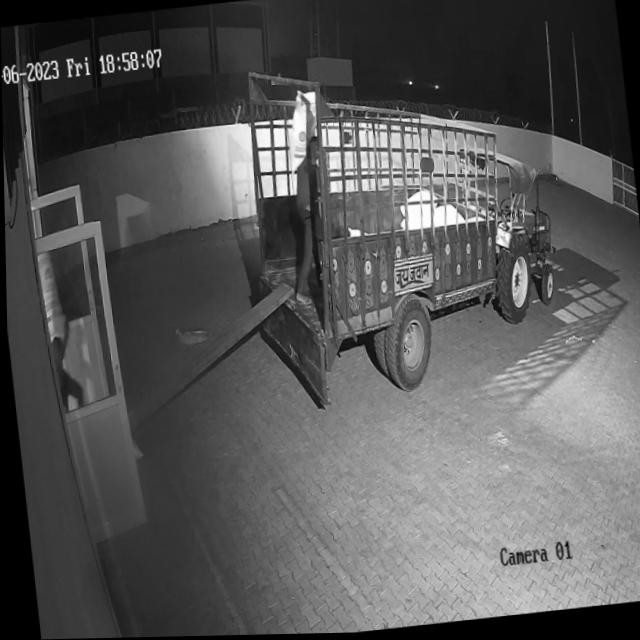sack: (279, 89, 323, 172)
